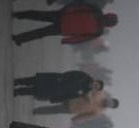person: (11, 3, 118, 47), (13, 69, 103, 104), (32, 91, 122, 116), (71, 112, 113, 128), (77, 62, 113, 74), (72, 46, 110, 57), (95, 75, 113, 87)
